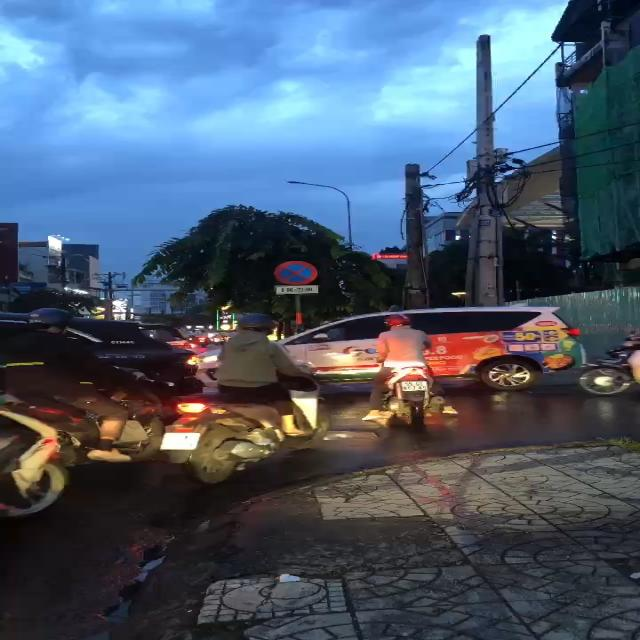Bien bao cam dung xe va do xe: (269, 257, 319, 286)
